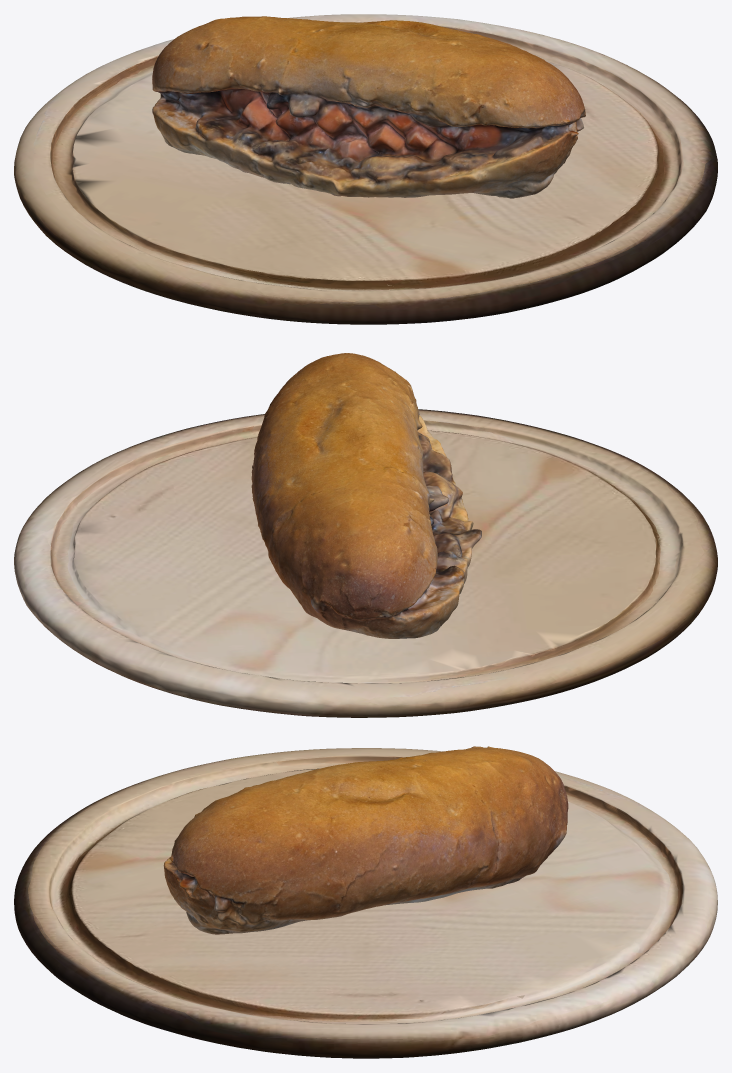
Rendered from hot.dog.especial.paniri.M..glb.
3 renders of one model, top to bottom at view 1: azimuth 30°, elevation 25°; view 2: azimuth 150°, elevation 25°; view 3: azimuth 270°, elevation 25°, orthographic.
Parts seen in each view (by area): view 1: Submesh_0.001, 3DModel.001; view 2: Submesh_0.001, 3DModel.001; view 3: Submesh_0.001, 3DModel.001.
Part boxes in pixels (x1=…): Submesh_0.001: x1=14, y1=14, x2=717, y2=324; 3DModel.001: x1=152, y1=16, x2=585, y2=198; Submesh_0.001: x1=14, y1=409, x2=717, y2=717; 3DModel.001: x1=251, y1=353, x2=481, y2=638; Submesh_0.001: x1=14, y1=748, x2=717, y2=1058; 3DModel.001: x1=163, y1=746, x2=568, y2=934.
Size of the model in its own units: 0.3272 by 0.078 by 0.3271.
2 materials, 2 textured.
